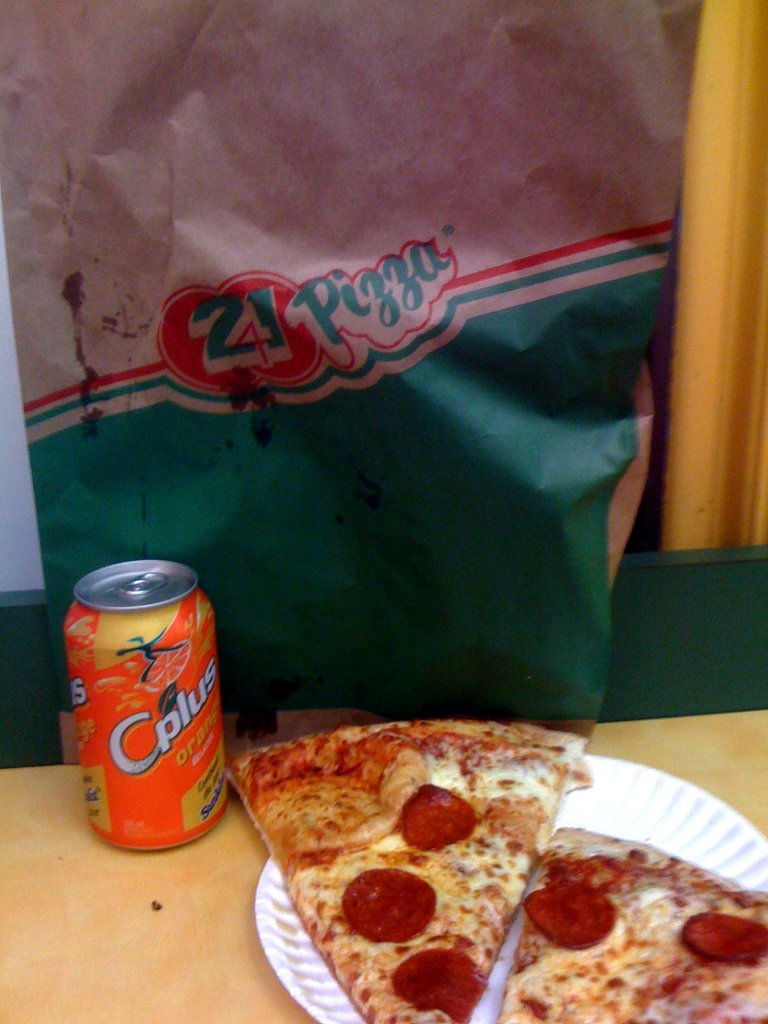Pizza: (224, 719, 583, 1023), (491, 819, 767, 1022)
